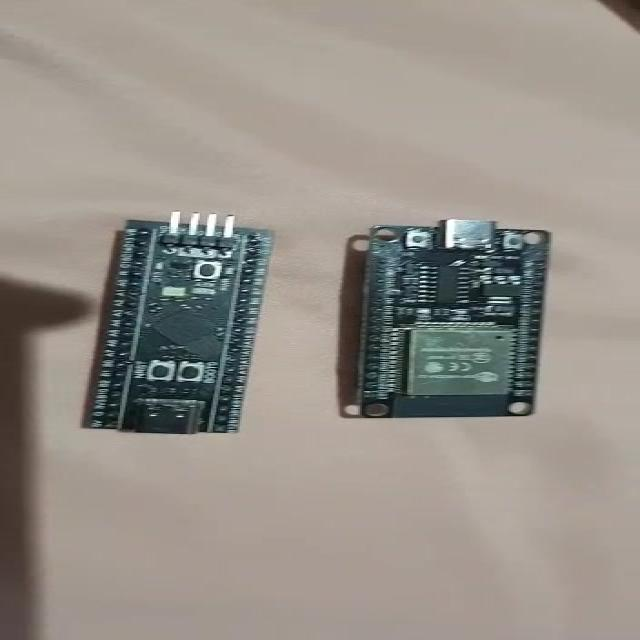ESP32: (352, 220, 550, 418)
STM32: (84, 214, 272, 435)
